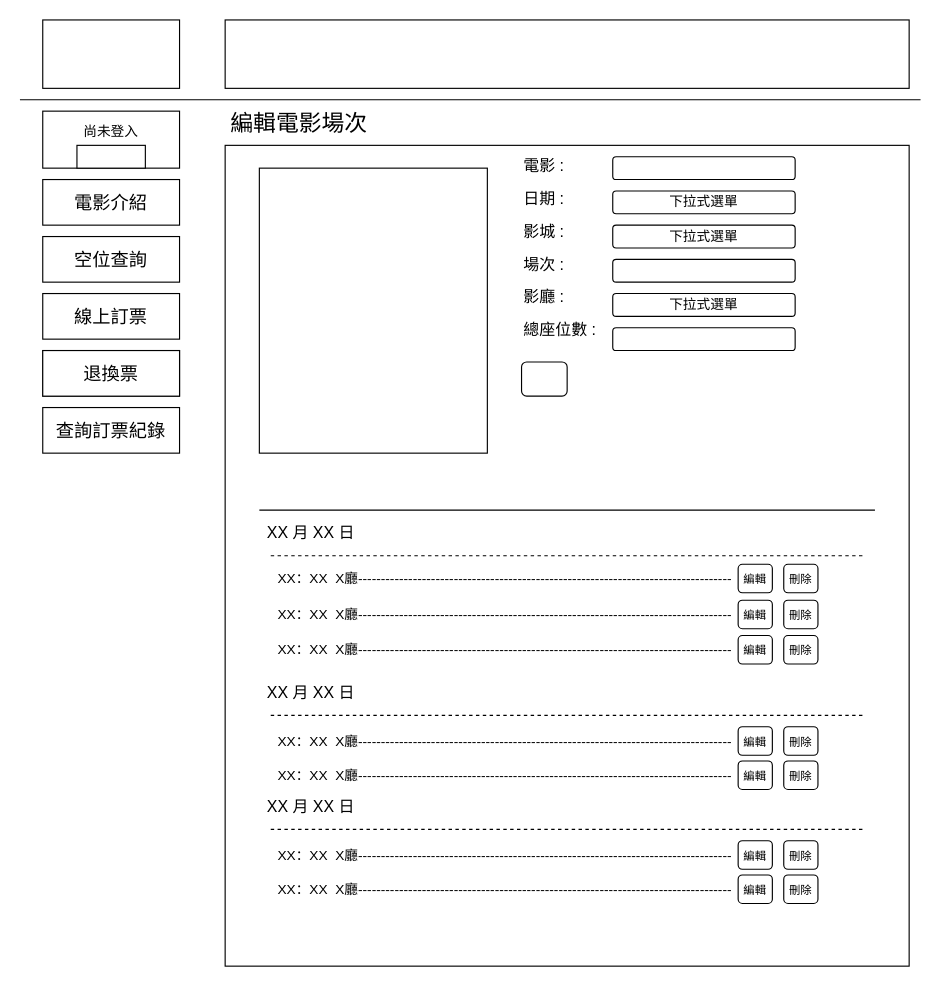
Some shapes in this 942 by 986 pixel diagram are drawn without their labels. Each missing label, with the centre of its shape:
場次: pixel 418 492
影城名稱: pixel 566 53
新增: pixel 543 378
登入/註冊: pixel 110 156
電影圖片: pixel 372 310
電影院 訂票系統: pixel 111 53
